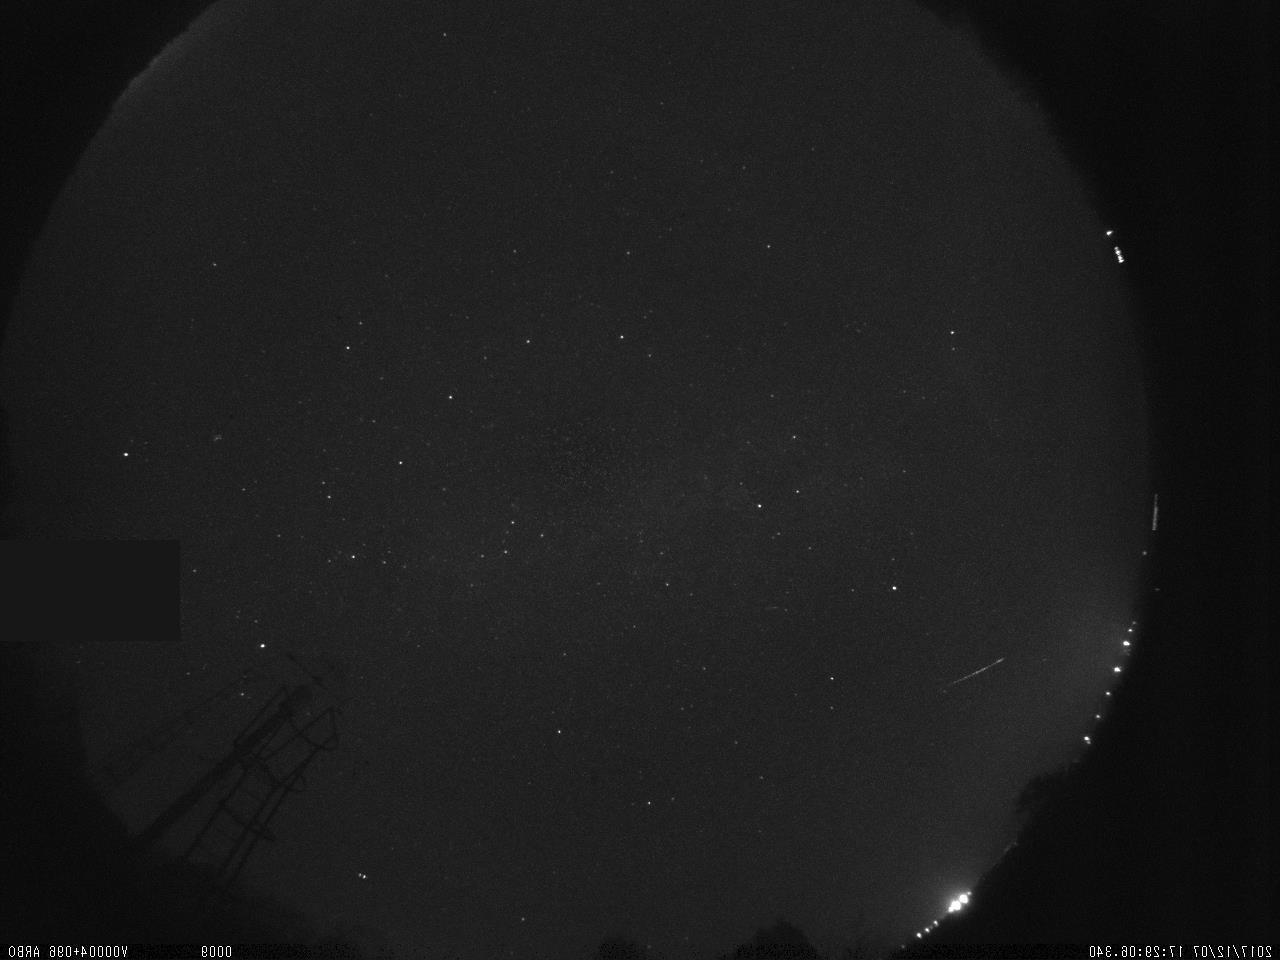meteor: (933, 644, 1013, 696)
